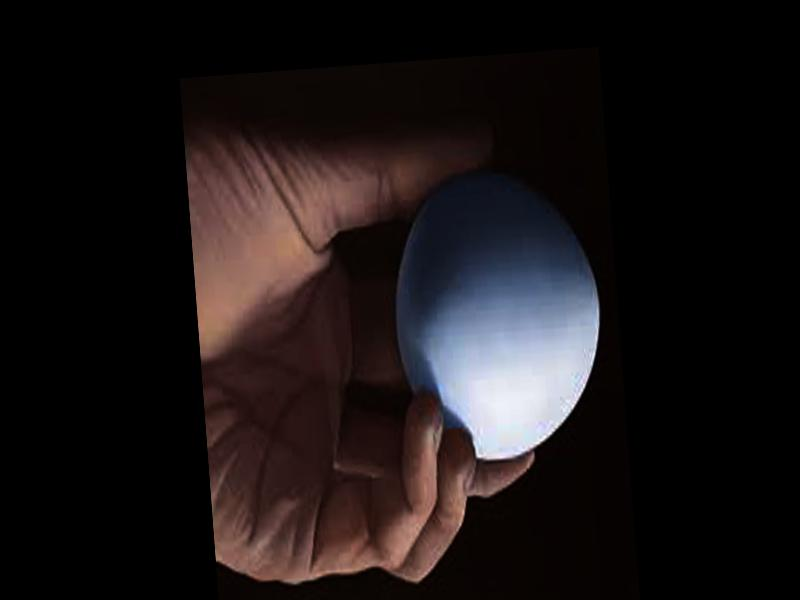Eggs: (387, 166, 612, 469)
